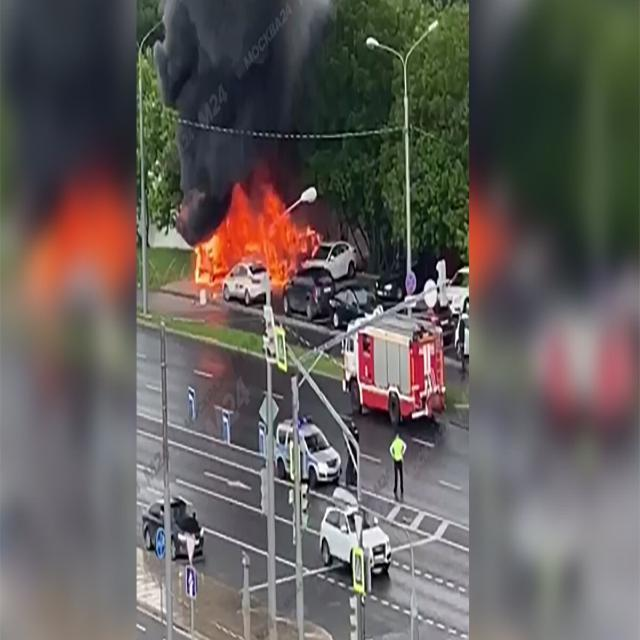Fire: (195, 182, 314, 287)
Smoke: (153, 0, 336, 240)
